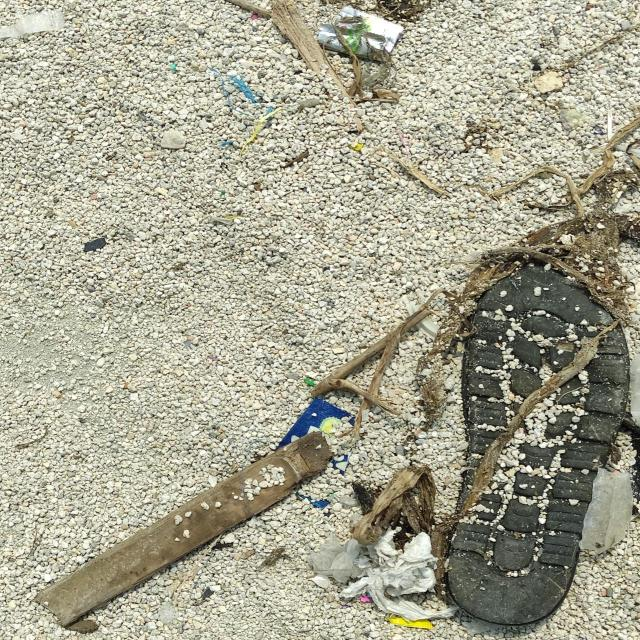plastic_waste: (317, 8, 406, 67)
rubber_waste: (445, 260, 631, 627)
wood_waste: (29, 431, 331, 623)
